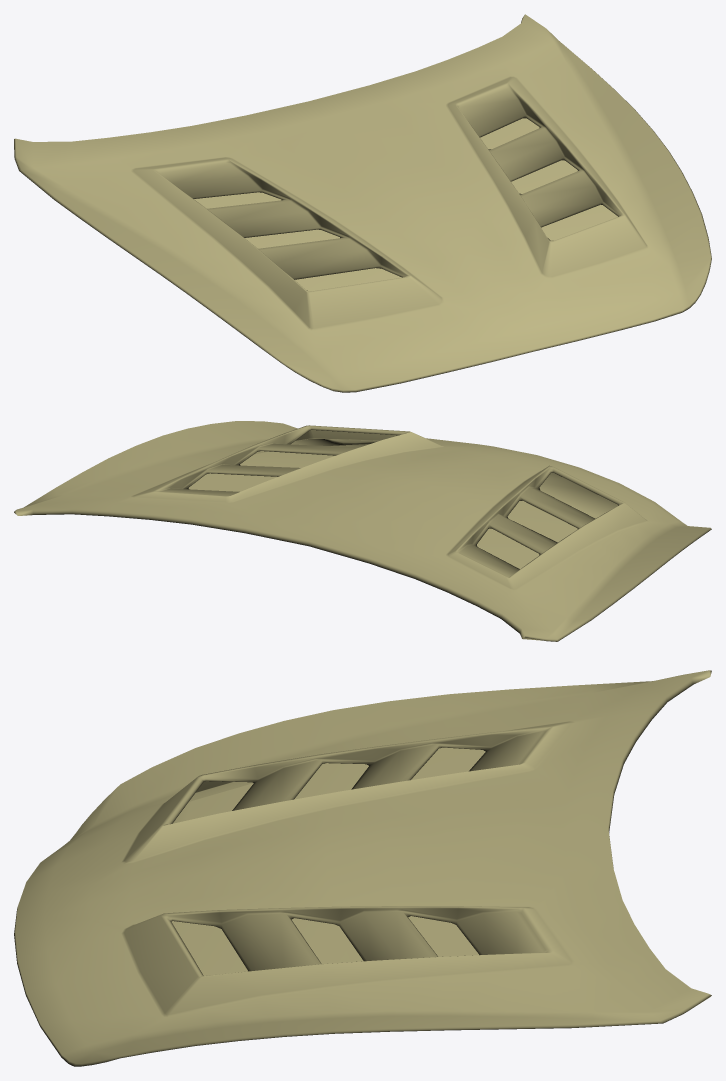
Rendered from G37_Hood_02_Duco.fbx.
The picture shows the model from 3 angles, top to bottom: view 1: azimuth 30°, elevation 25°; view 2: azimuth 150°, elevation 25°; view 3: azimuth 270°, elevation 25°; orthographic projection. The views are drawn at different scales.
Parts seen in each view (by area): view 1: G37_Hood_02_Duco; view 2: G37_Hood_02_Duco; view 3: G37_Hood_02_Duco.
Boxes of the visible parts, x1,y1,x2,y2 form: G37_Hood_02_Duco: (14, 14, 711, 392); G37_Hood_02_Duco: (14, 421, 711, 641); G37_Hood_02_Duco: (14, 670, 711, 1066).
Bounding box in the file's own units: 150 × 26.09 × 130.
